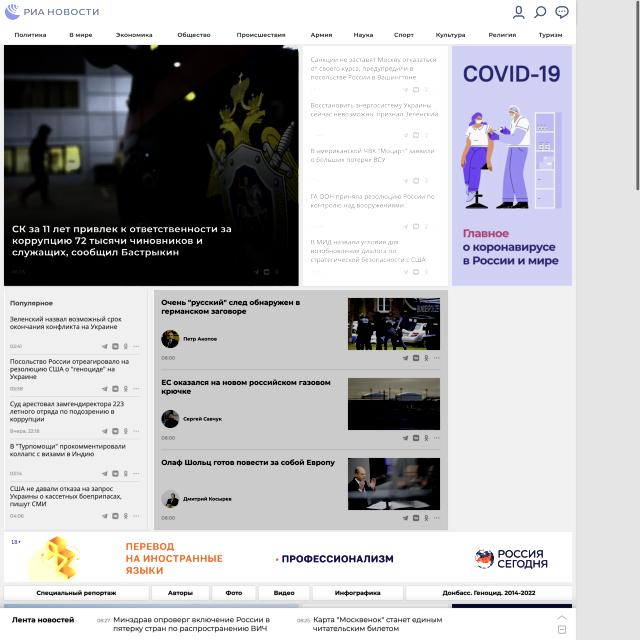ImageView: (452, 44, 572, 285), (4, 532, 572, 582)
QR code: (154, 290, 448, 530), (5, 290, 150, 530), (304, 46, 446, 286)
bag: (0, 0, 576, 44)
copy: (4, 46, 298, 286)
date picker: (4, 4, 102, 22)
decoration: (3, 28, 573, 44)
